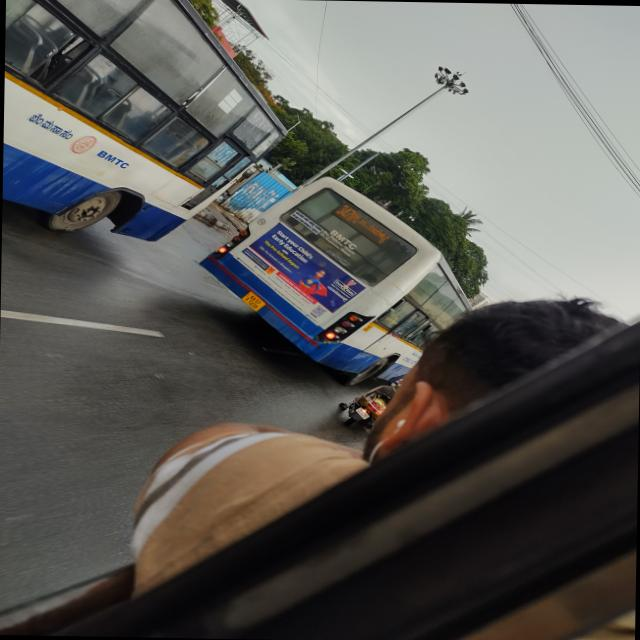bus: (182, 147, 506, 400), (3, 0, 290, 244)
display: (330, 200, 395, 246)
dnumber: (334, 202, 362, 224)
